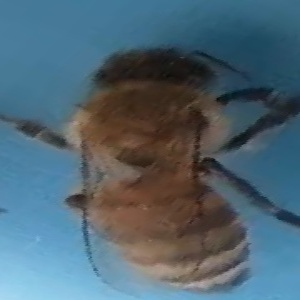bee: (8, 43, 297, 298)
